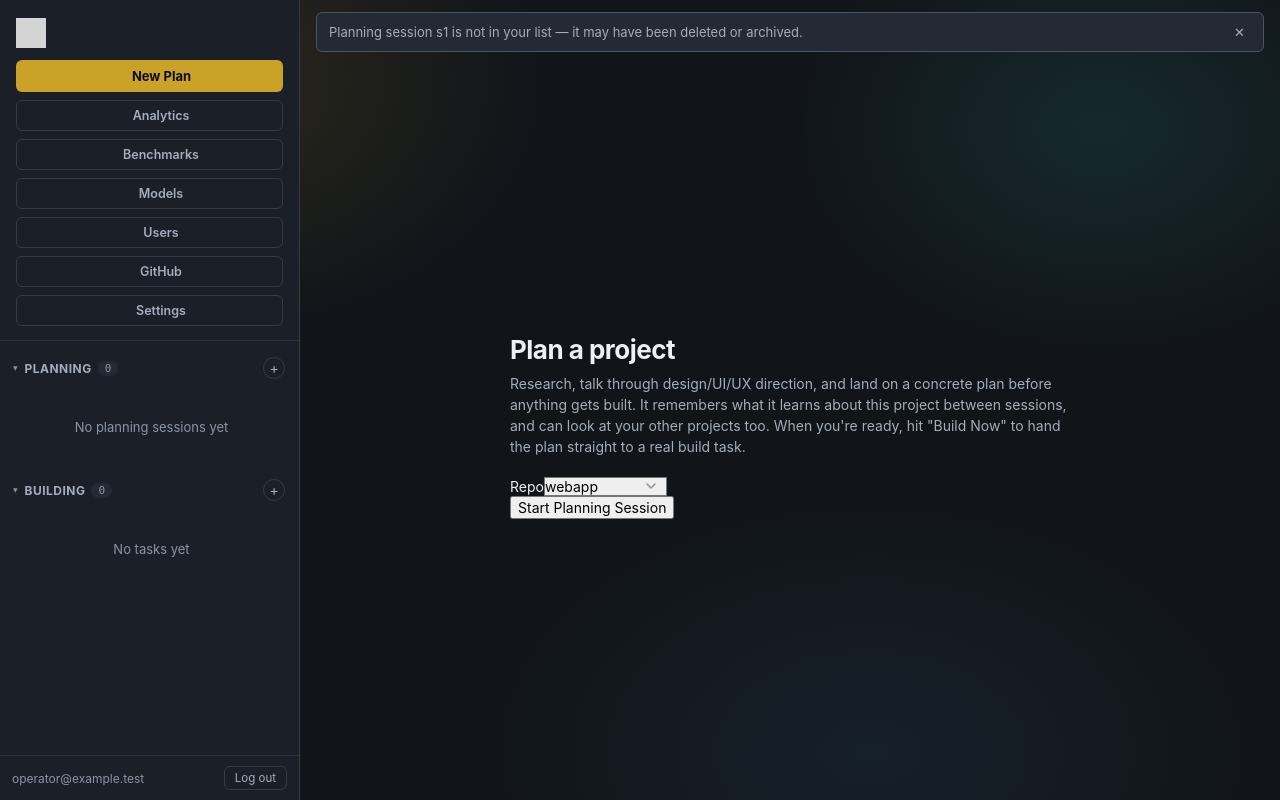
App — the planner's New project door › probes GitHub settings for an admin and offers the private-repo box when a token exists
Check: the button "New Plan" is shown, box [16,60,283,92]
Select "New project…" in the dropdown labelled "Repo": (605, 486) [544,476,667,496]
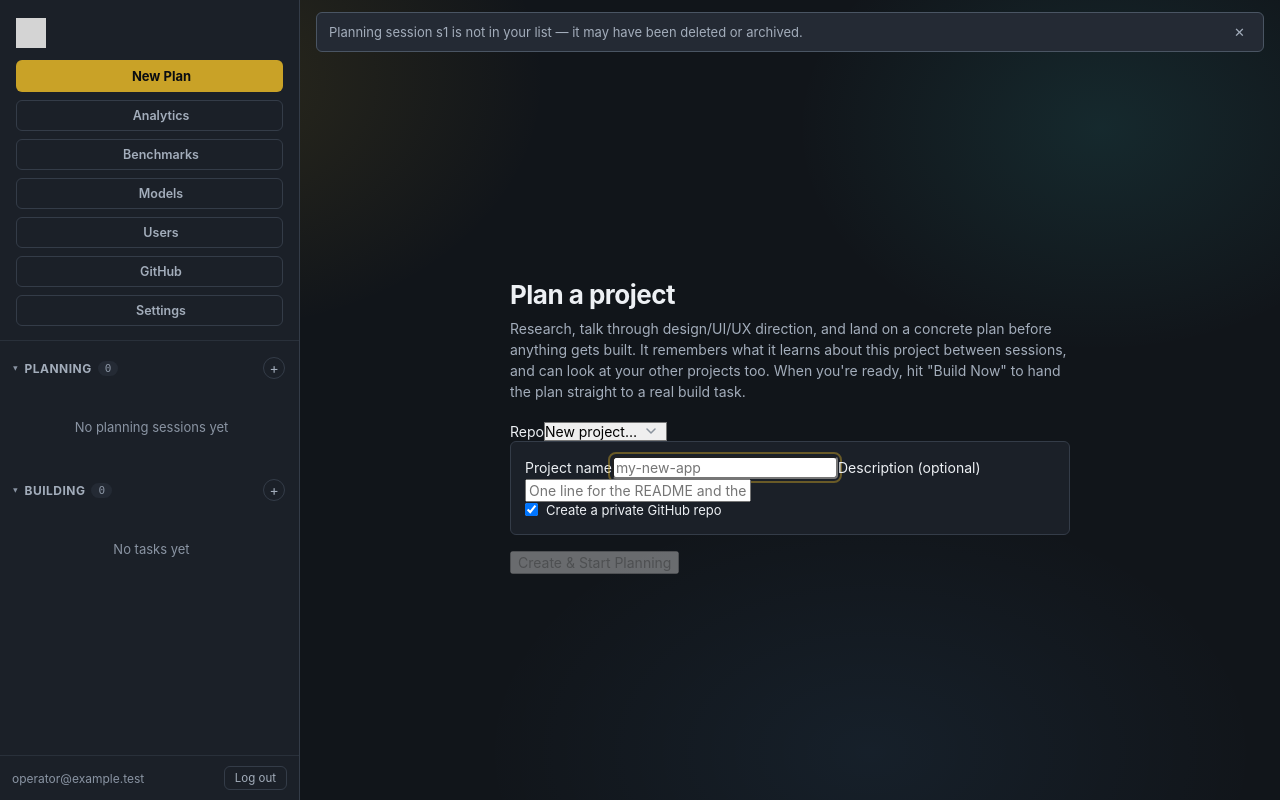
Check: the checkbox labelled "Create a private GitHub repo" is checked, box [525,503,538,516]
